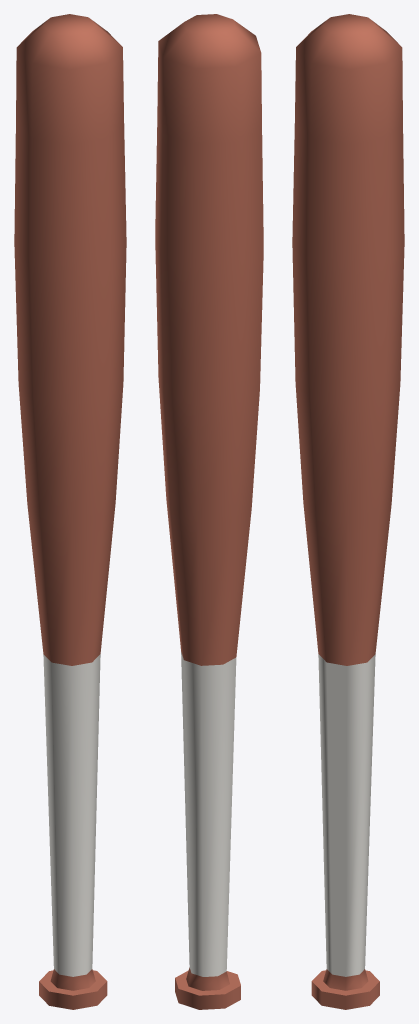
The model's file is SM_Baseball_Bat_1_01.fbx.
The picture shows the model from 3 angles, left to right: view 1: azimuth 90°, elevation 25°; view 2: azimuth 210°, elevation 25°; view 3: azimuth 270°, elevation 25°; orthographic projection.
Parts seen in each view (by area): view 1: SM_Baseball_Bat_1_01; view 2: SM_Baseball_Bat_1_01; view 3: SM_Baseball_Bat_1_01.
Part boxes in pixels (x1=…): SM_Baseball_Bat_1_01: x1=14, y1=14, x2=126, y2=1009; SM_Baseball_Bat_1_01: x1=155, y1=14, x2=263, y2=1009; SM_Baseball_Bat_1_01: x1=292, y1=14, x2=404, y2=1009.
Size of the model in its own units: 8.51 by 81.21 by 8.51.
